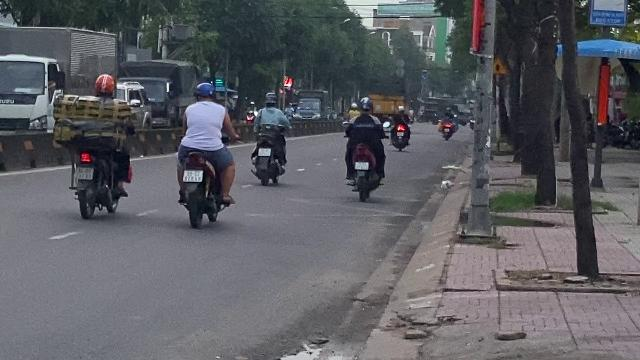helmet: (92, 74, 116, 96), (193, 82, 215, 102)
licenseplate: (183, 170, 201, 182), (75, 167, 93, 179)
motorcyclist: (53, 72, 134, 220), (172, 81, 238, 227)
